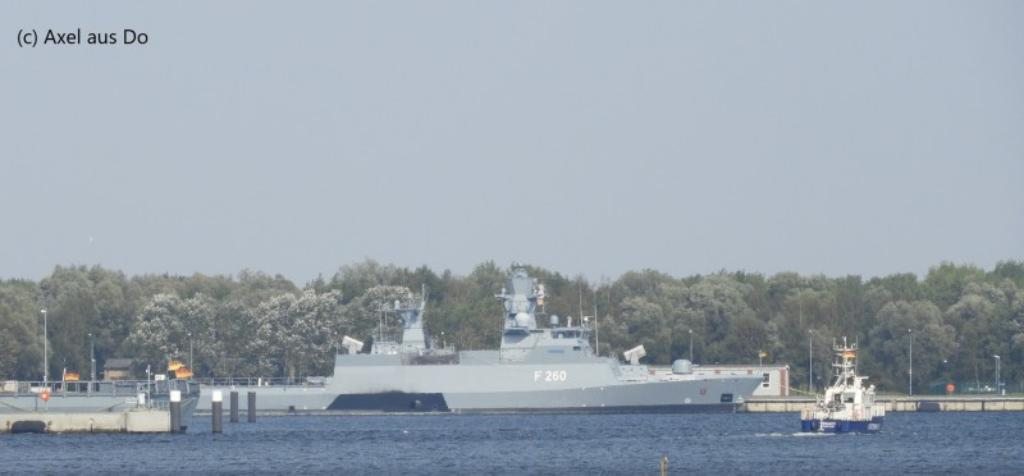PassengerShip: (790, 338, 892, 436)
